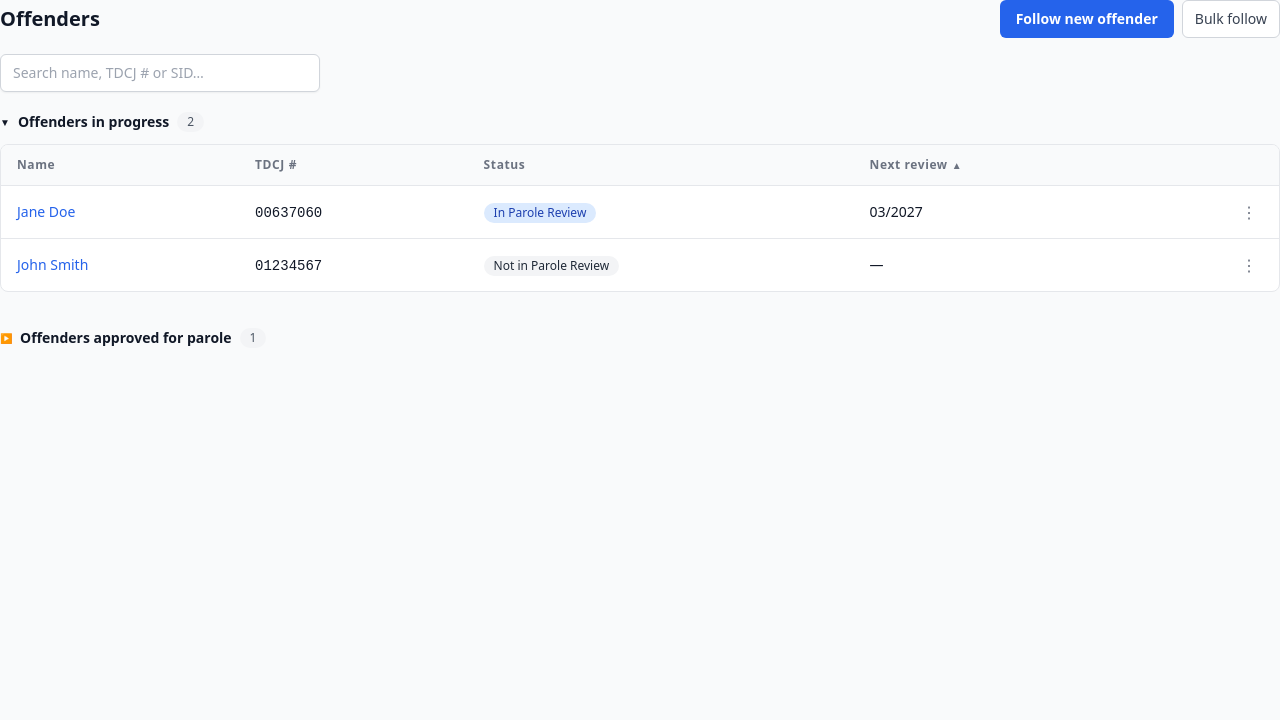
it: OffenderList › opens the bulk import modal from the bulk follow button
The image size is (1280, 720).
Click the button "Bulk follow". click: click(1231, 19)
box: [1182,0,1279,38]
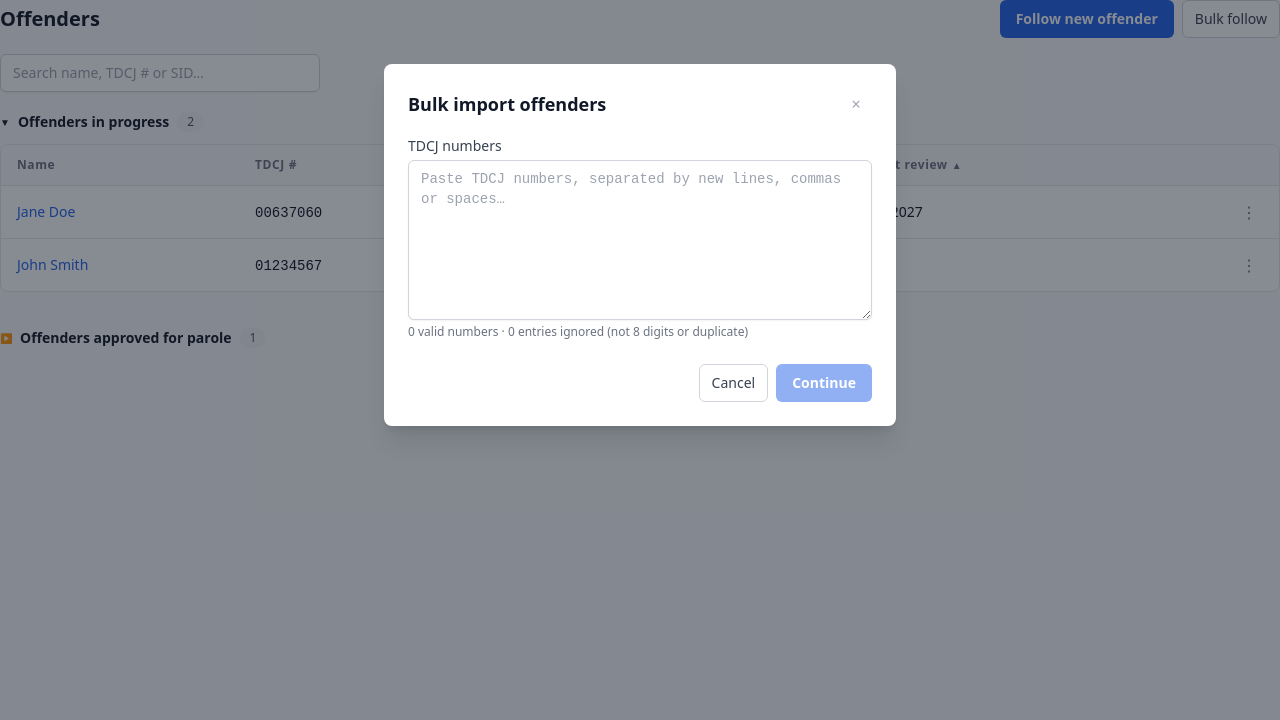
expect the dialog shows "Bulk import offenders": met, box [408,92,606,116]
expect the text box labelled "TDCJ numbers" is shown: met, box [408,160,872,320]
